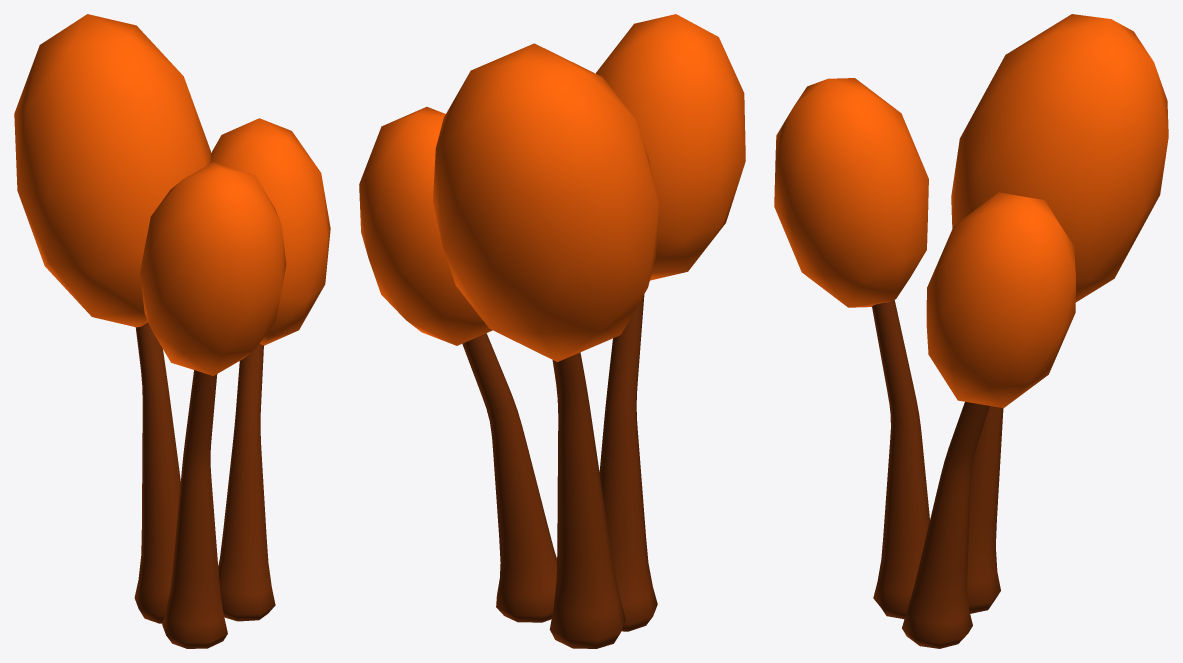
The model's file is Tree003.fbx.
3 renders of one model, left to right at view 1: azimuth 30°, elevation 25°; view 2: azimuth 150°, elevation 25°; view 3: azimuth 270°, elevation 25°, orthographic. The views are drawn at different scales.
Parts seen in each view (by area): view 1: Icosphere.001; view 2: Icosphere.001; view 3: Icosphere.001.
Boxes of the visible parts, x1,y1,x2,y2 form: Icosphere.001: (14,14,330,648); Icosphere.001: (359,14,745,648); Icosphere.001: (774,14,1168,648).
Bounding box in the file's own units: 172 × 351 × 214.
Materials: 1 (1 with a texture image).
